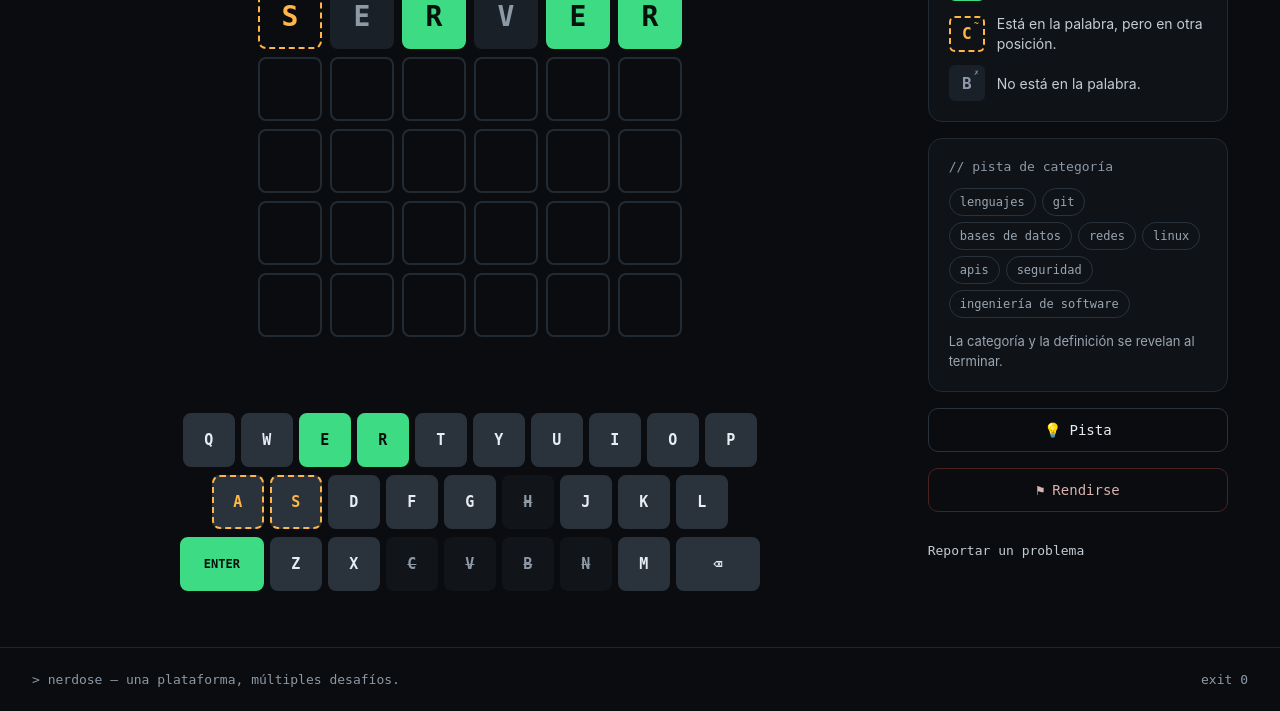
Test case: formulario › TS-8: sin motivo muestra el error, enfoca el select y no envía
(page scrolled)
Click the button "Reportar un problema": (1078, 550) [928,528,1228,572]
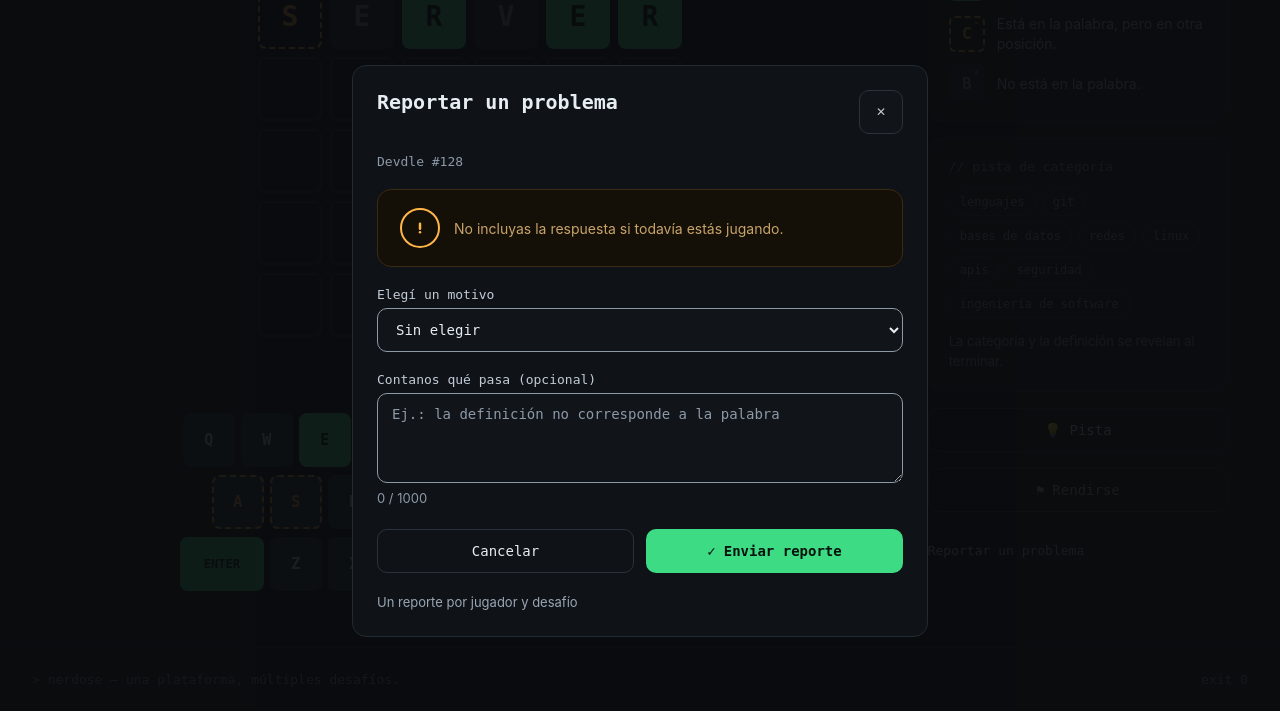
Click the button "✓ Enviar reporte": (774, 550) [646,528,903,572]
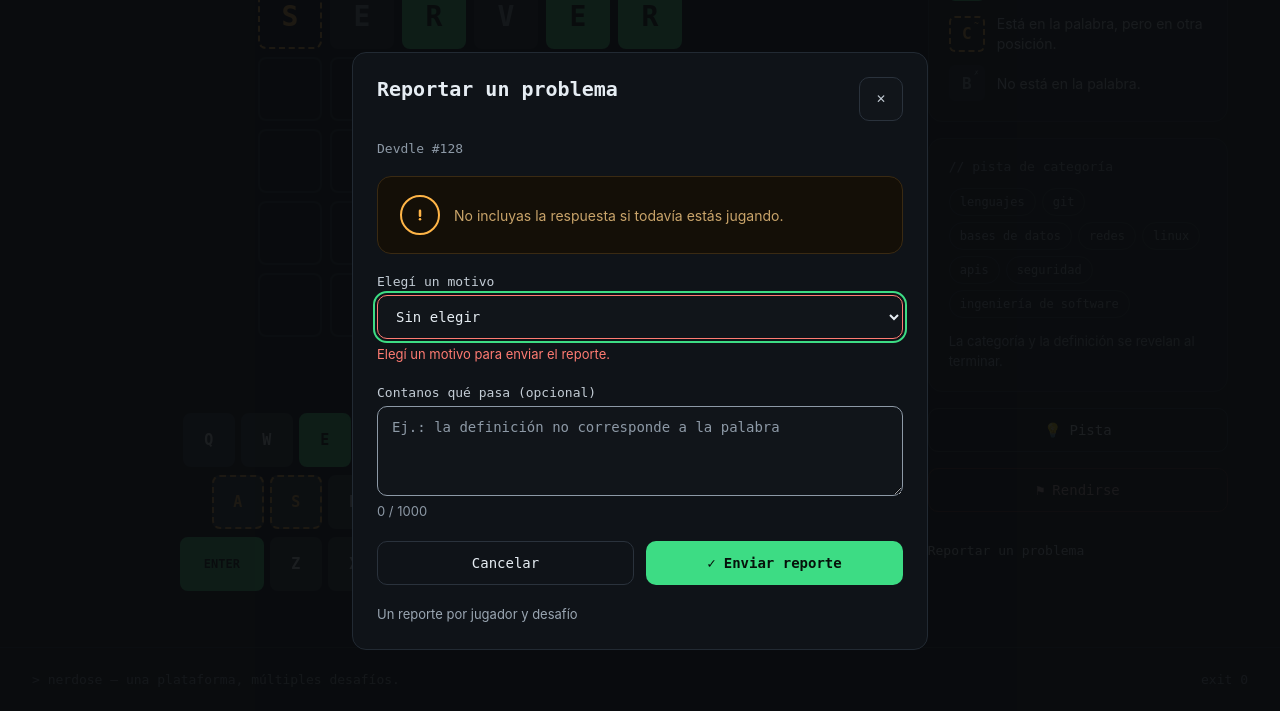
Expected: the text "Elegí un motivo para enviar el reporte." is shown, [377,346,610,362]
Select "Es ambiguo" in the dropdown labelled "Elegí un motivo": (640, 317) [377,295,903,339]
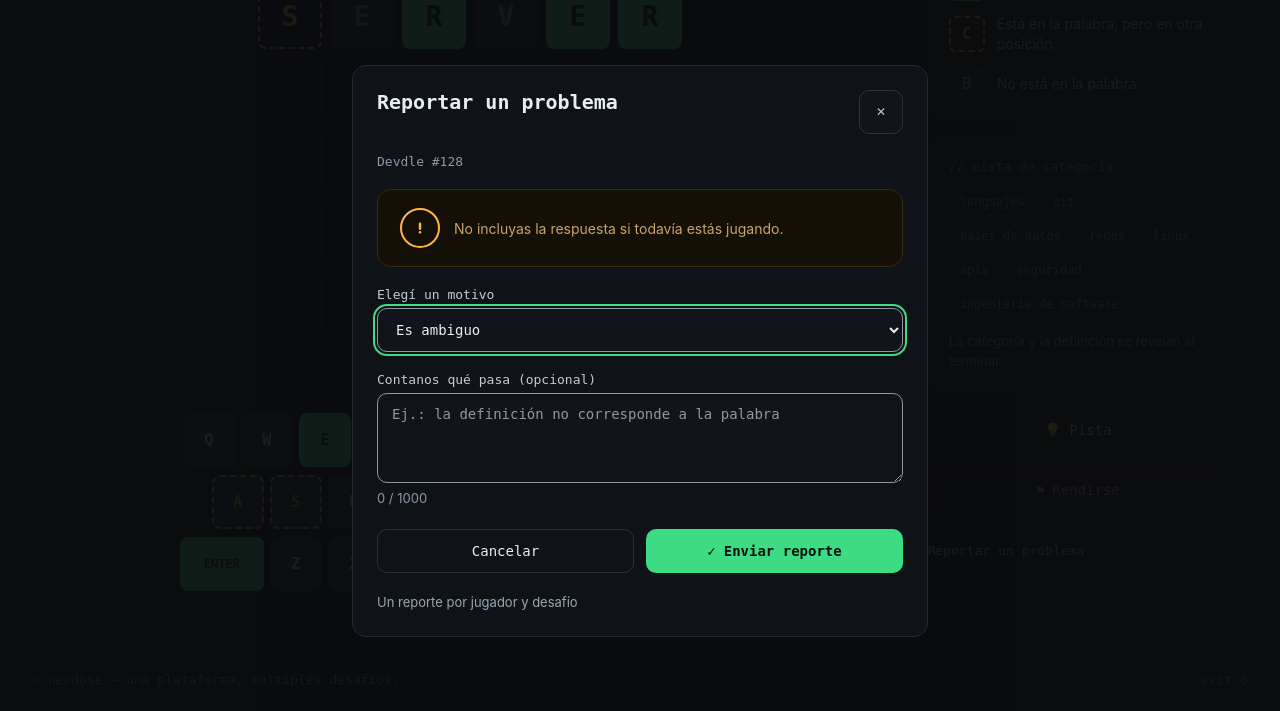
Expected: the text "Elegí un motivo para enviar el reporte." is gone
